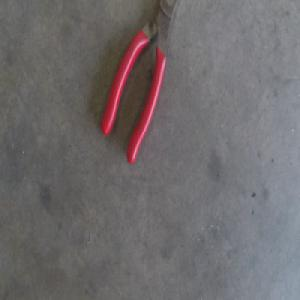Pliers: (101, 0, 178, 166)
